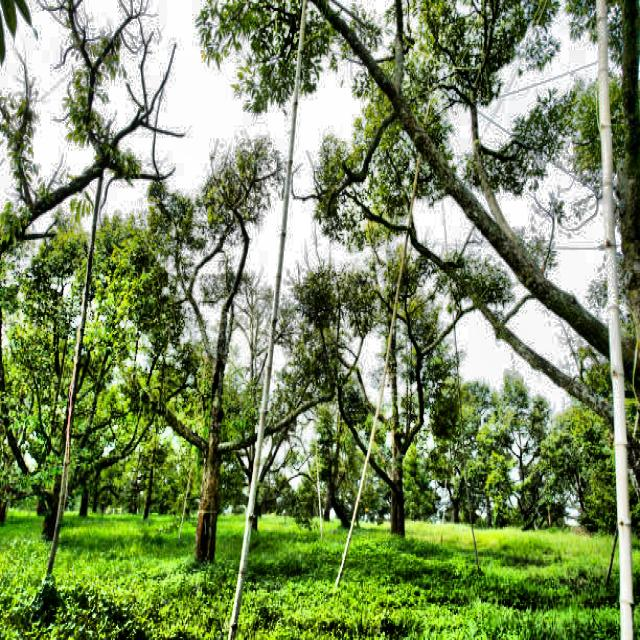arvore: (376, 301, 412, 550), (195, 332, 221, 590)
